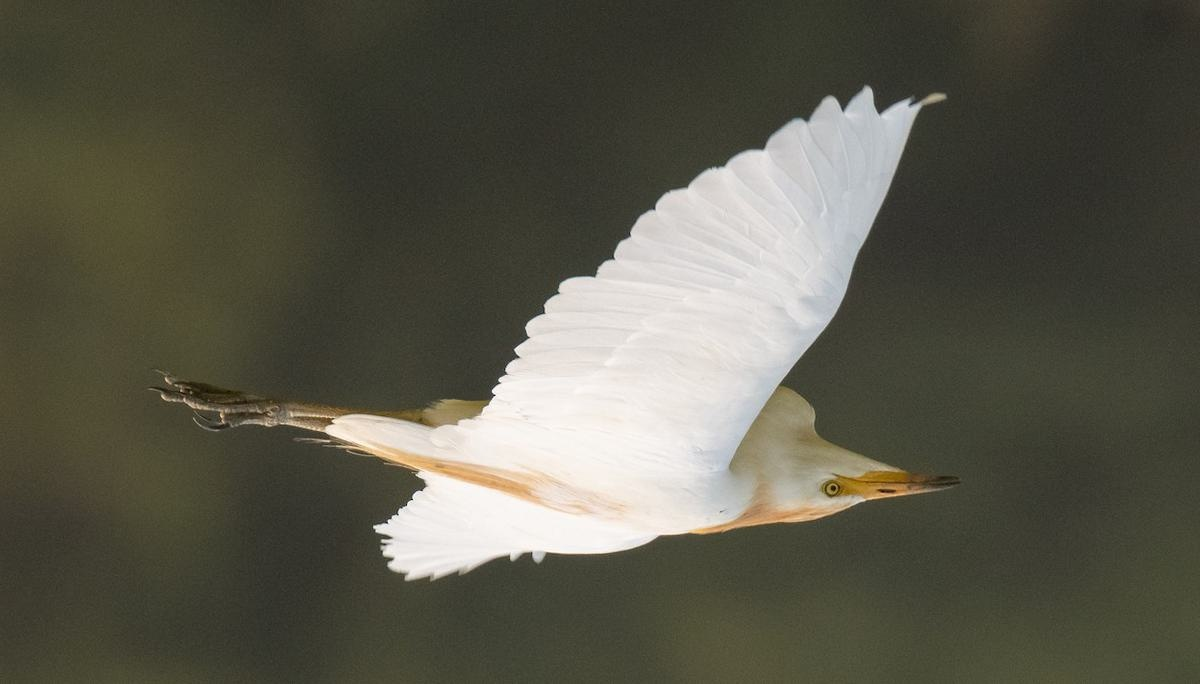egret: (161, 58, 998, 588)
